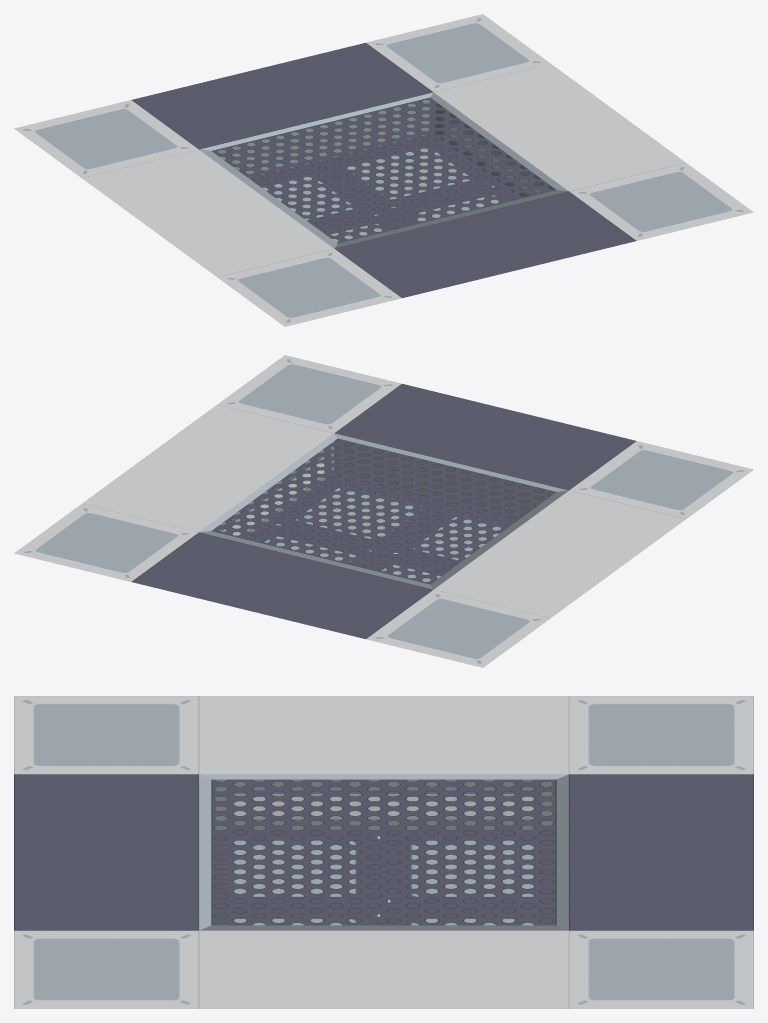
File: Floor_04_B.FBX
The picture shows the model from 3 angles, top to bottom: view 1: azimuth 30°, elevation 25°; view 2: azimuth 150°, elevation 25°; view 3: azimuth 270°, elevation 25°; orthographic projection. The views are drawn at different scales.
Parts seen in each view (by area): view 1: Floor_04_B; view 2: Floor_04_B; view 3: Floor_04_B.
Part boxes in pixels (x1,y1,x2,y2): Floor_04_B: (14,14,753,326); Floor_04_B: (14,355,753,667); Floor_04_B: (14,696,753,1008).
Bounding box in the file's own units: 6 × 0.5 × 6.
